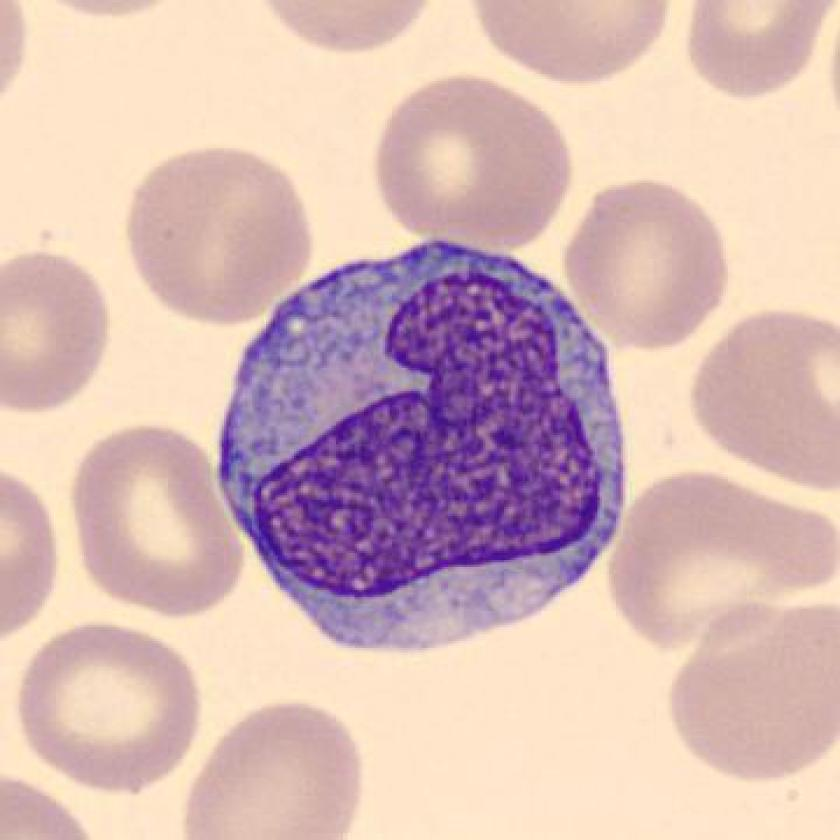monocyte: (202, 219, 645, 675)
